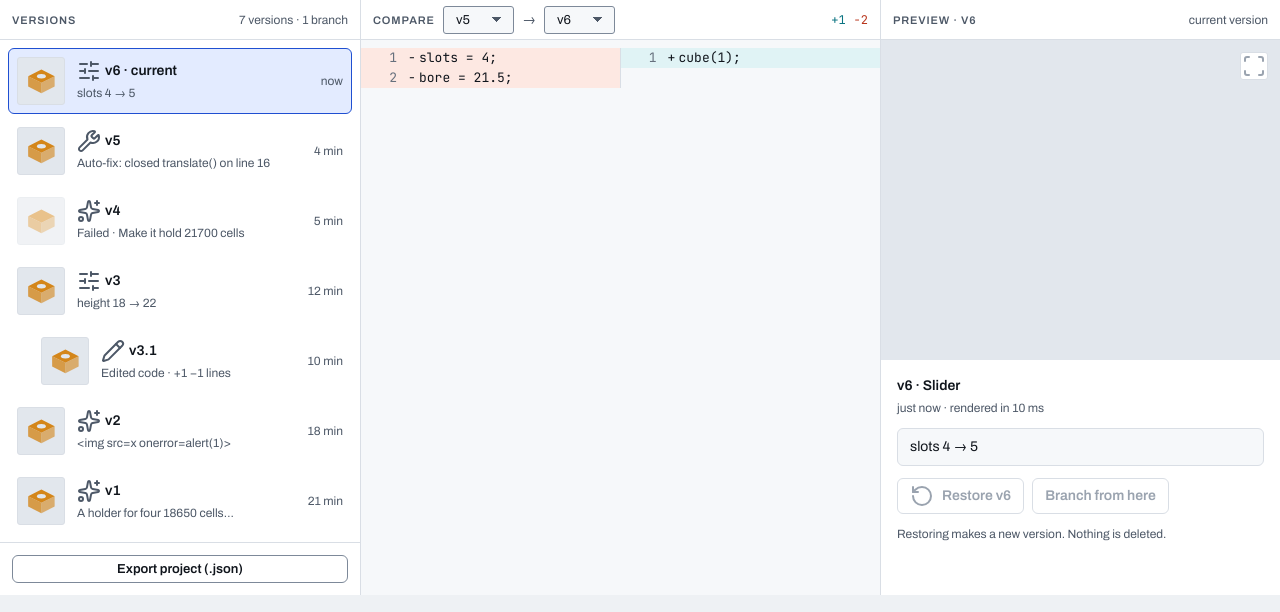
Test: previews a selected version without moving the head, with its details and reply
The width and height of the screenshot is (1280, 612).
Expected: the text "Preview · v6" is shown, [893,12,976,28]
Expected: the text "current version" is shown, [1189,12,1268,28]
Click the button "v5 Auto-fix: closed translate() on line 16 4 min" at (41, 151), box [8,118,352,184]
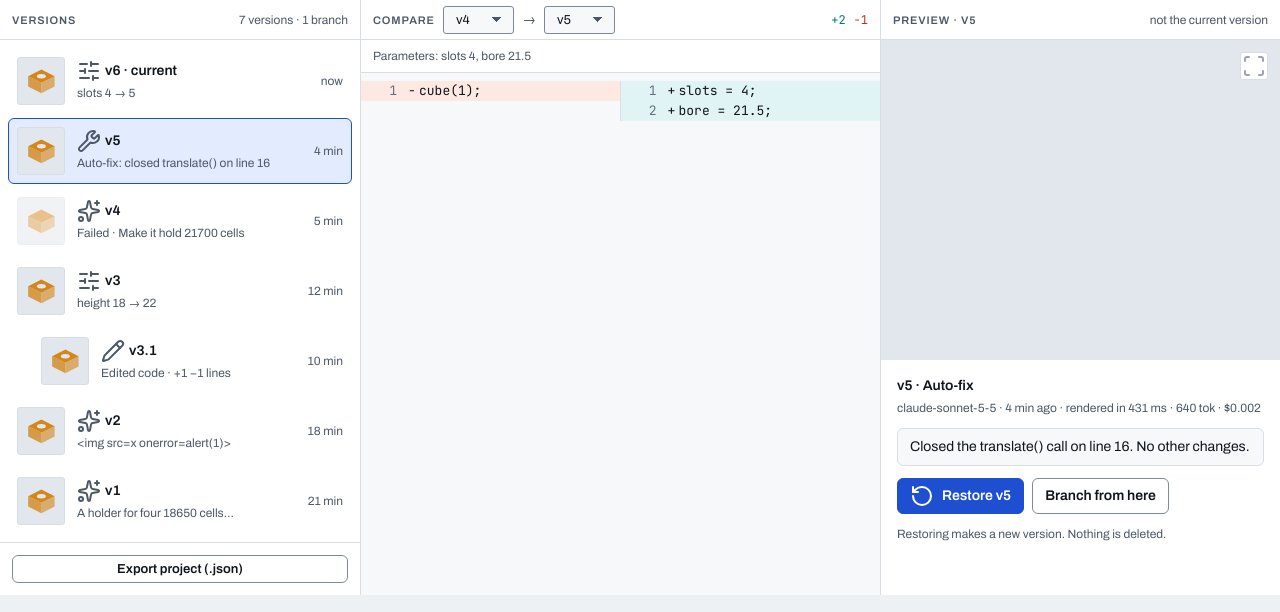
Expected: the text "Preview · v5" is shown, [893,12,976,28]
Expected: the text "not the current version" is shown, [1150,12,1268,28]
Expected: the text "v5 · Auto-fix" is shown, [897,378,974,393]
